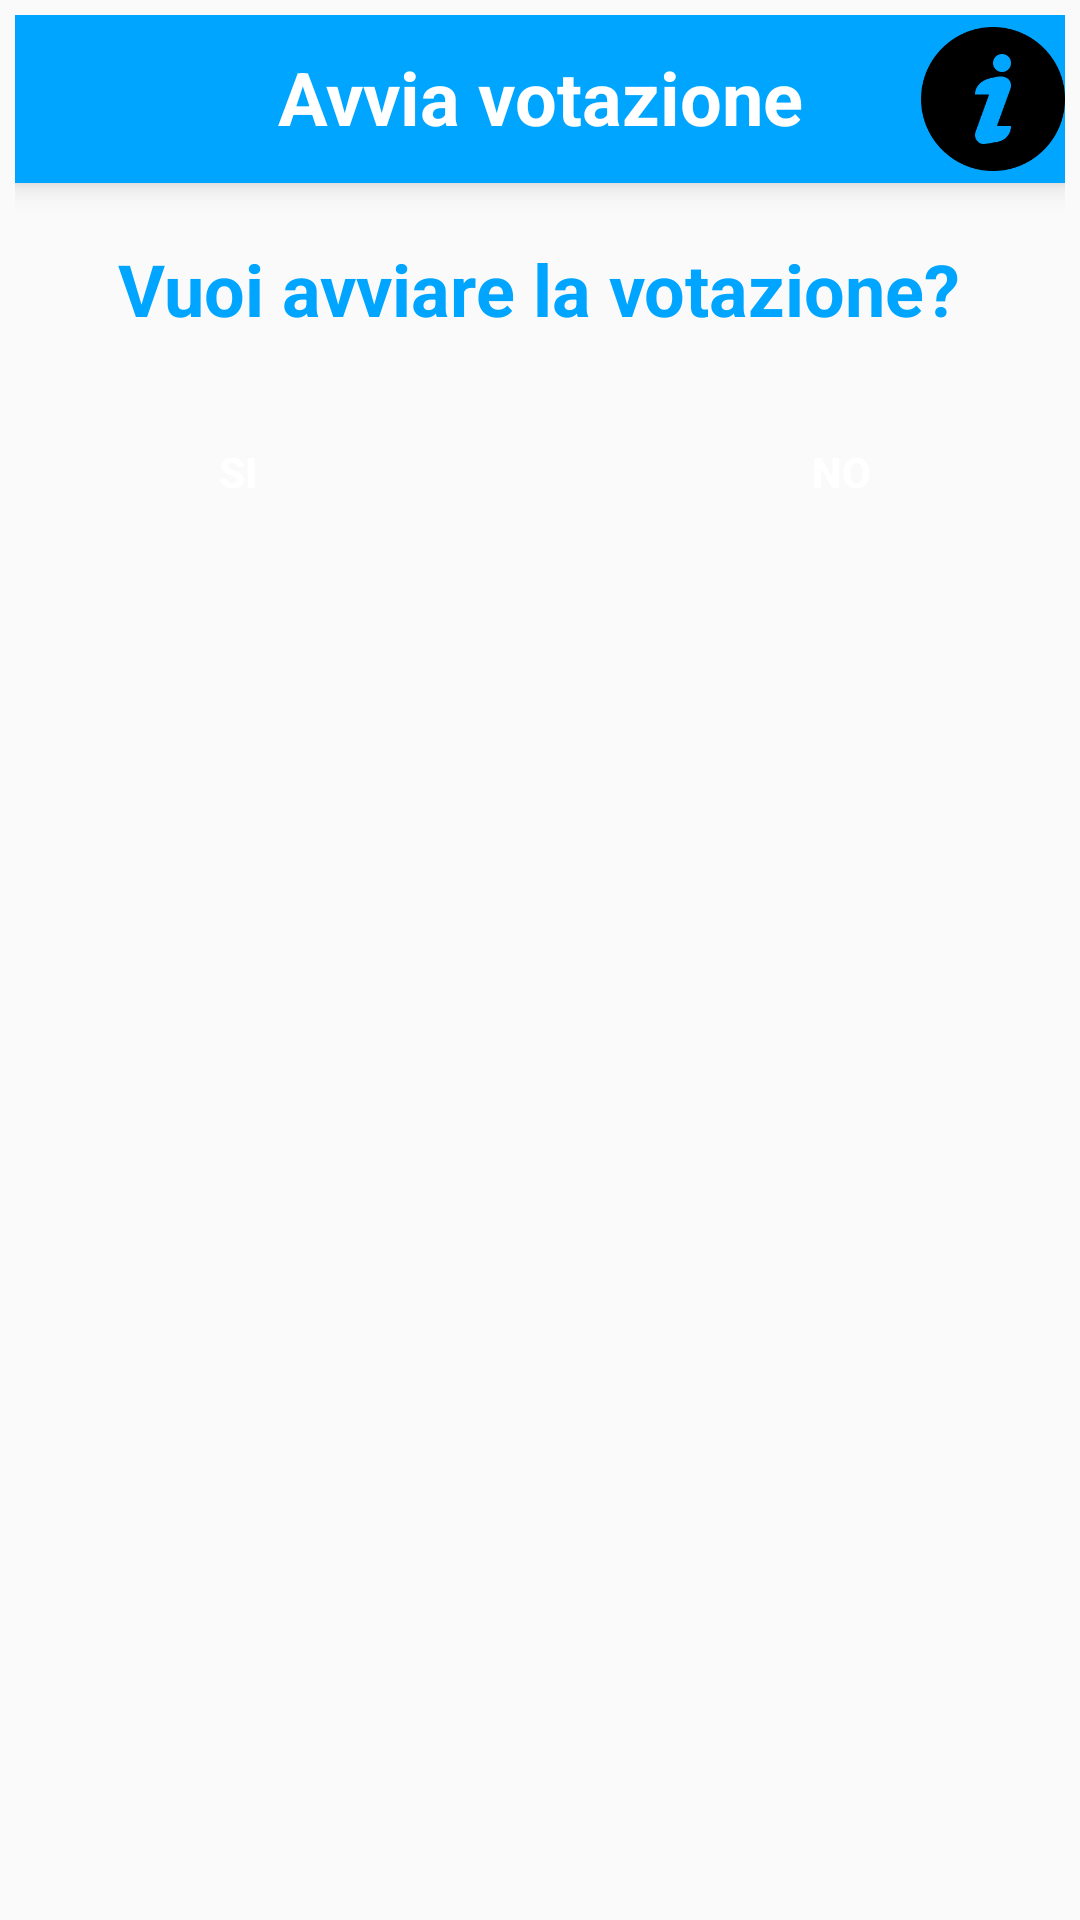

Icon bounding boxes for this 1080 x 1920 phone screenshot, format detection(x1, y1, x2, y2):
information: detection(921, 27, 1065, 171)
